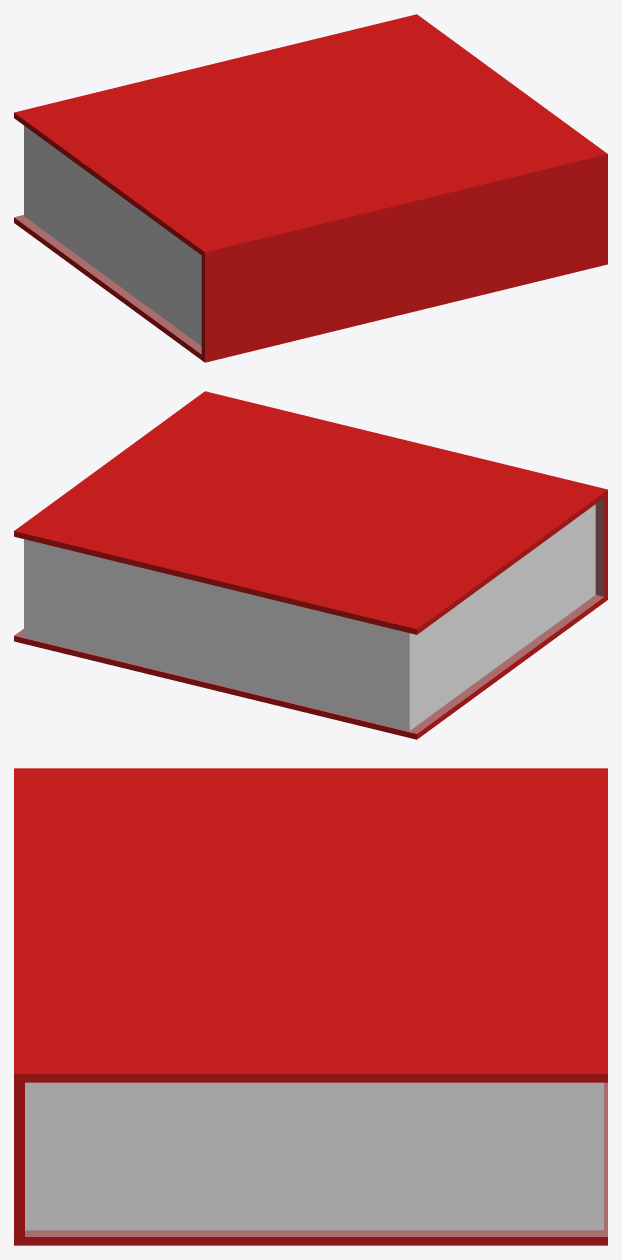
File: book.fbx
The picture shows the model from 3 angles, top to bottom: view 1: azimuth 30°, elevation 25°; view 2: azimuth 150°, elevation 25°; view 3: azimuth 270°, elevation 25°; orthographic projection. The views are drawn at different scales.
Parts seen in each view (by area): view 1: Box001; view 2: Box001; view 3: Box001.
Boxes of the visible parts, <box> form: Box001: <box>14,14,607,362</box>; Box001: <box>14,391,607,739</box>; Box001: <box>14,768,607,1245</box>.
Size of the model in its own units: 29.15 by 7.63 by 23.94.
